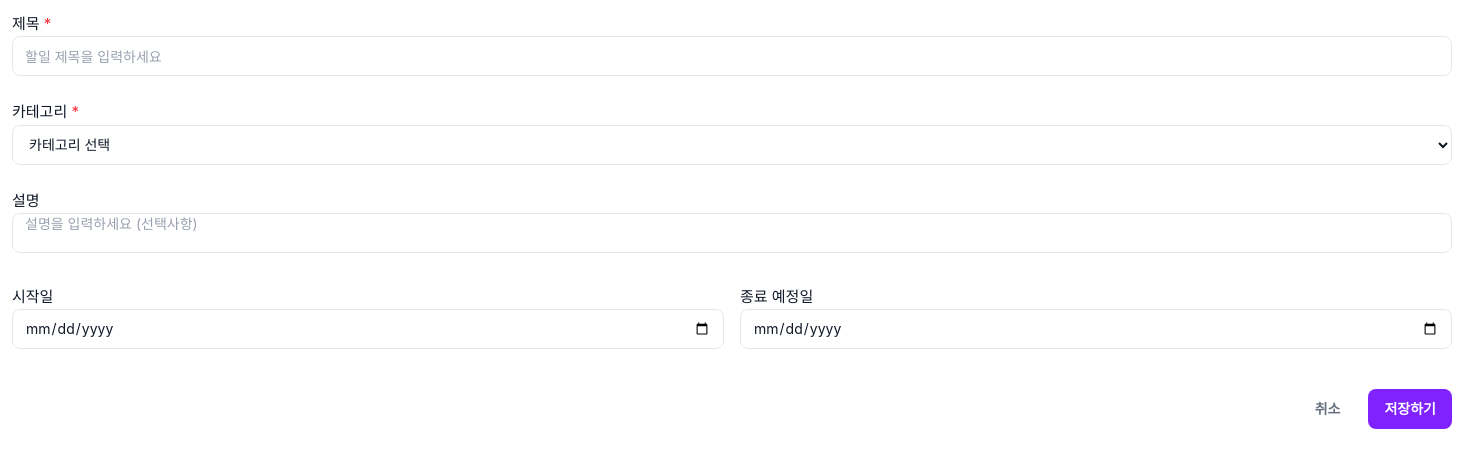
TodoForm (할일 등록) › dueDate < startDate 시 에러가 표시된다 (BR-05)
The image size is (1464, 472).
Type "새 할일" into the field with placeholder "할일 제목을 입력하세요" at x=732, y=56, box top-left (12, 36), bottom-right (1452, 76)
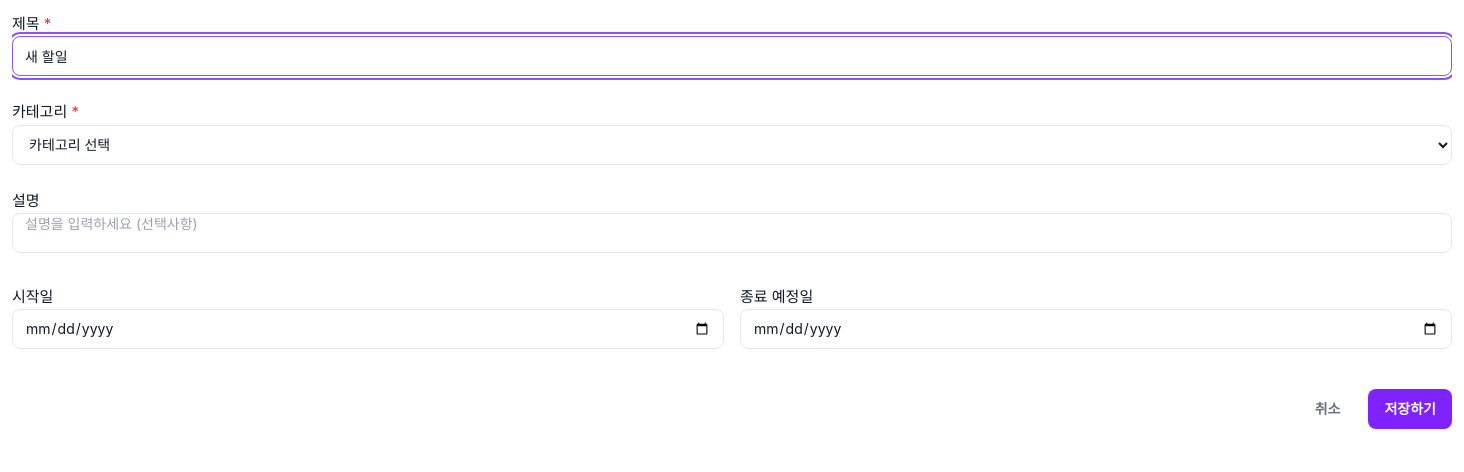
Select "일반" in the dropdown labelled "카테고리 *" at x=732, y=145, box top-left (12, 125), bottom-right (1452, 165)
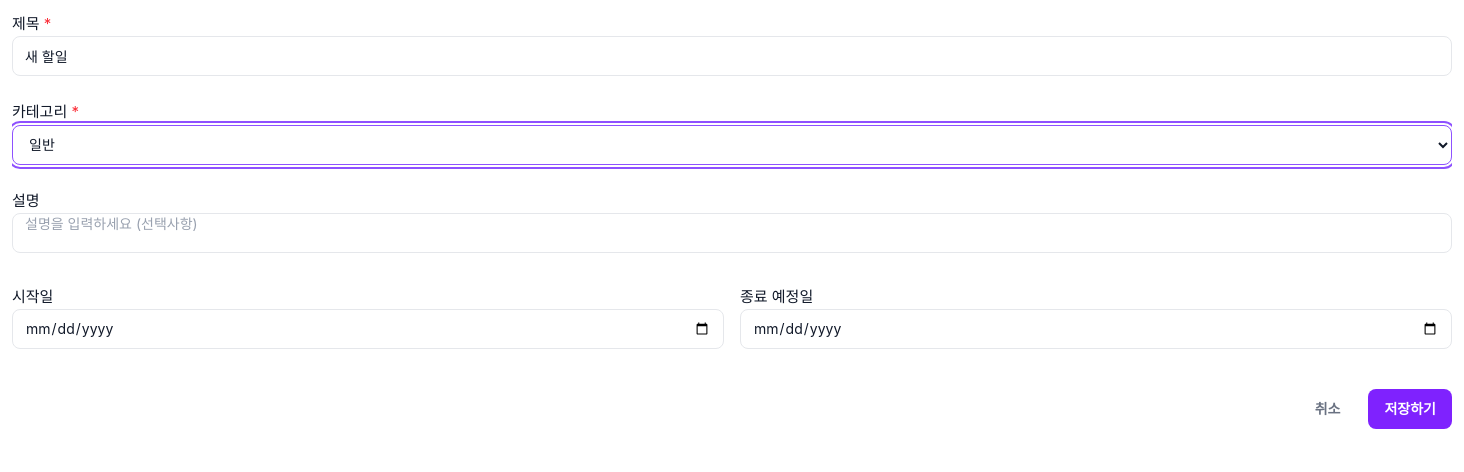
Type "2026-05-20" into the date field labelled "시작일" at x=368, y=329, box top-left (12, 309), bottom-right (724, 349)
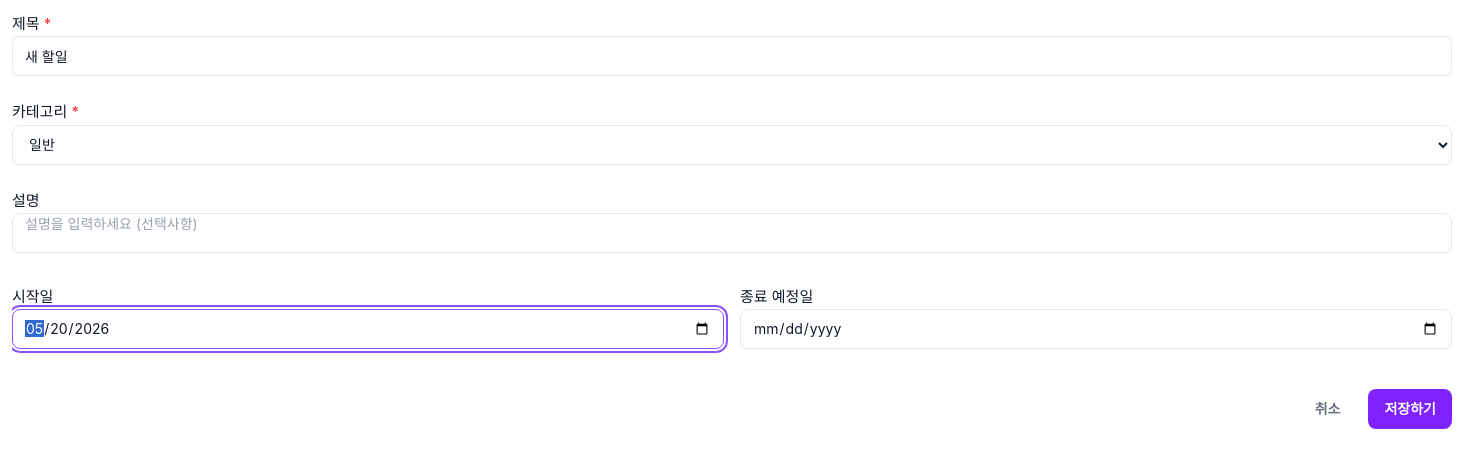
Type "2026-05-10" into the date field labelled "종료 예정일" at x=1096, y=329, box top-left (740, 309), bottom-right (1452, 349)
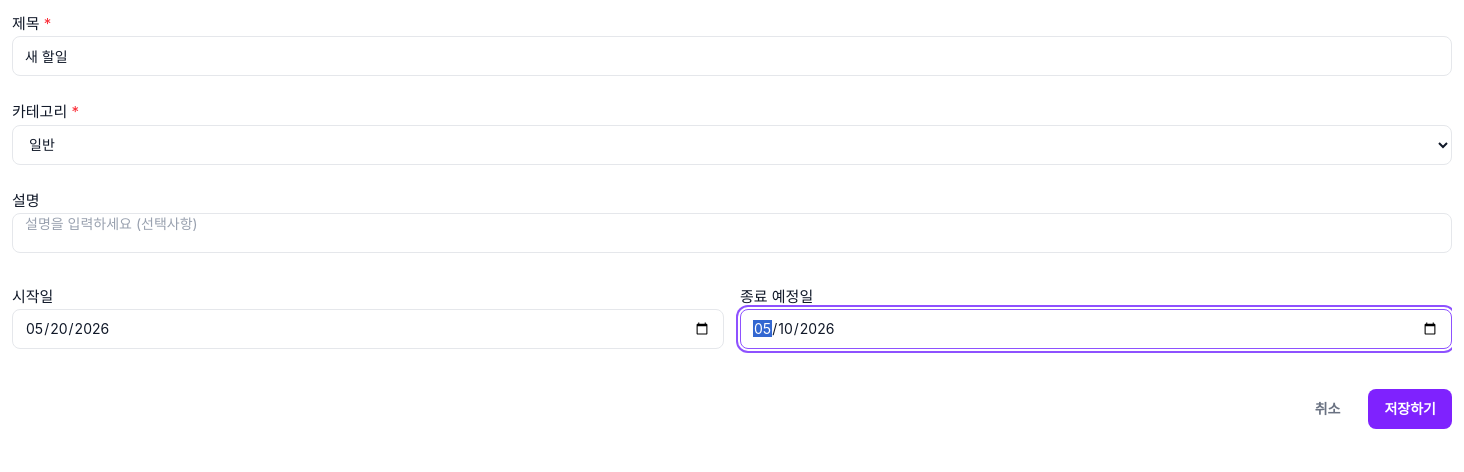
Click the button "저장하기" at x=1410, y=409, box top-left (1368, 389), bottom-right (1452, 429)
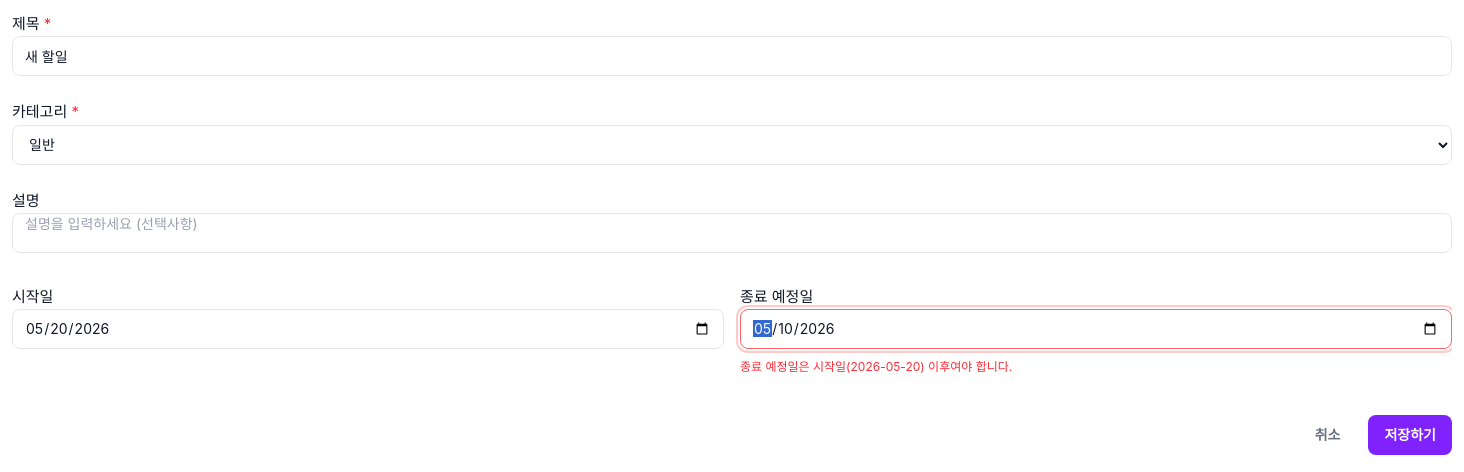
Check: the text "종료 예정일은 시작일(2026-05-20) 이후여야 합니다." is shown, box top-left (740, 359), bottom-right (1012, 374)
